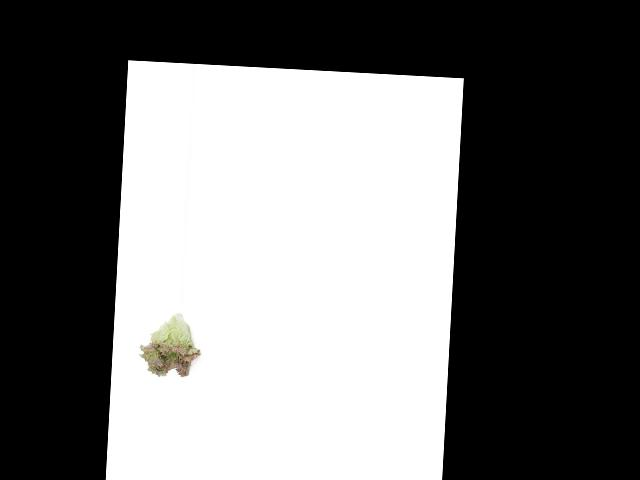lettuce: (135, 309, 208, 387)
